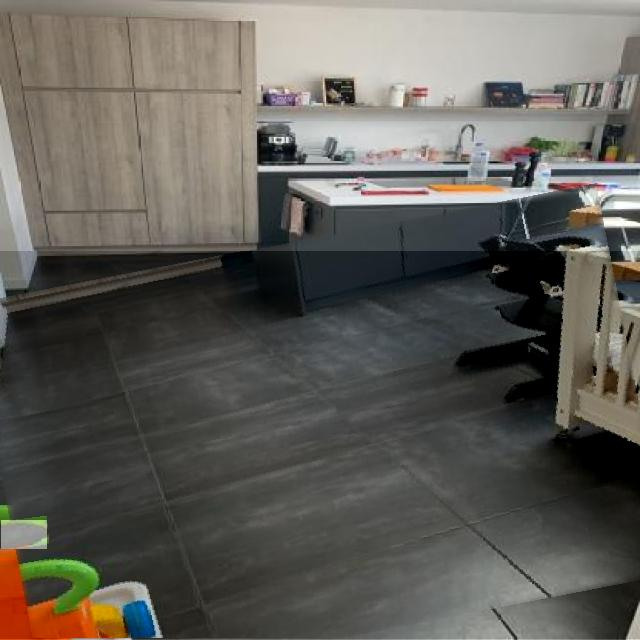floor: (0, 252, 640, 639), (2, 520, 47, 549)
